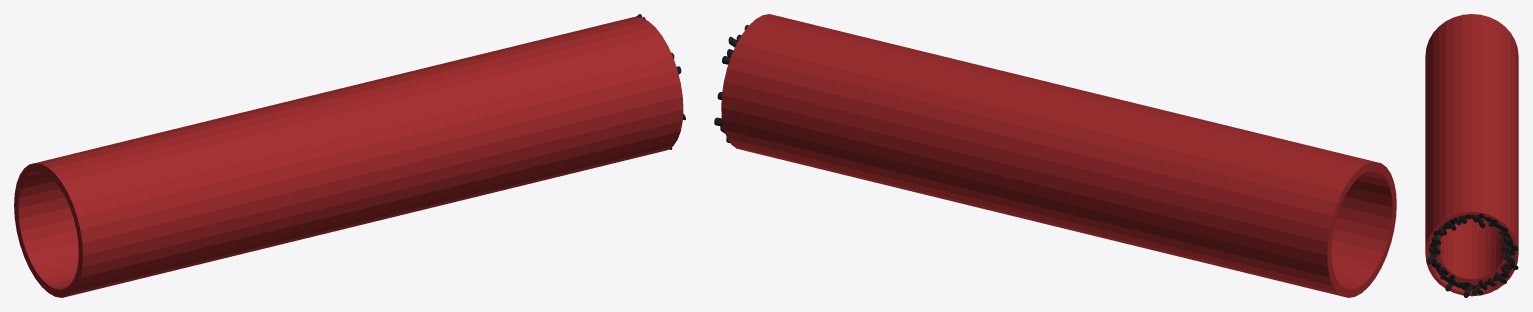
Rendered from redtube.fbx.
The picture shows the model from 3 angles, left to right: view 1: azimuth 30°, elevation 25°; view 2: azimuth 150°, elevation 25°; view 3: azimuth 270°, elevation 25°; orthographic projection. The views are drawn at different scales.
Visible parts, largest first — view 1: Cylinder; view 2: Cylinder; view 3: Cylinder.
Part boxes in pixels (left/top/right/bottom): Cylinder: left=14, top=16, right=683, bottom=297; Cylinder: left=721, top=14, right=1396, bottom=297; Cylinder: left=1425, top=14, right=1518, bottom=296.
Bounding box in the file's own units: 896 × 175 × 174.
